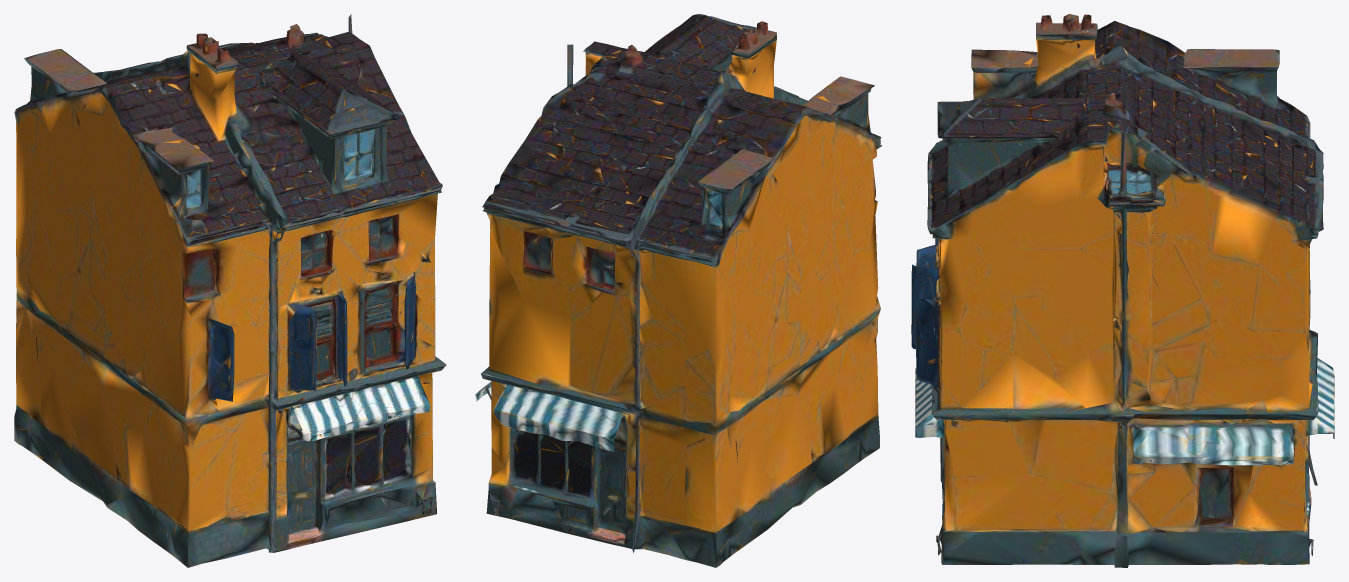
Rendered from house-ochre.glb.
3 renders of one model, left to right at view 1: azimuth 30°, elevation 25°; view 2: azimuth 150°, elevation 25°; view 3: azimuth 270°, elevation 25°, orthographic. The views are drawn at different scales.
Size of the model in its own units: 1.14 by 1.9 by 1.56.
1 material, 1 textured.
